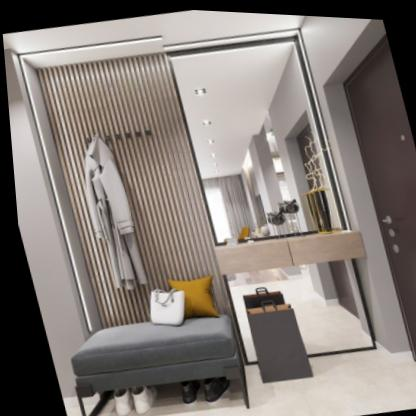Ceramic floor: (93, 343, 416, 416)
